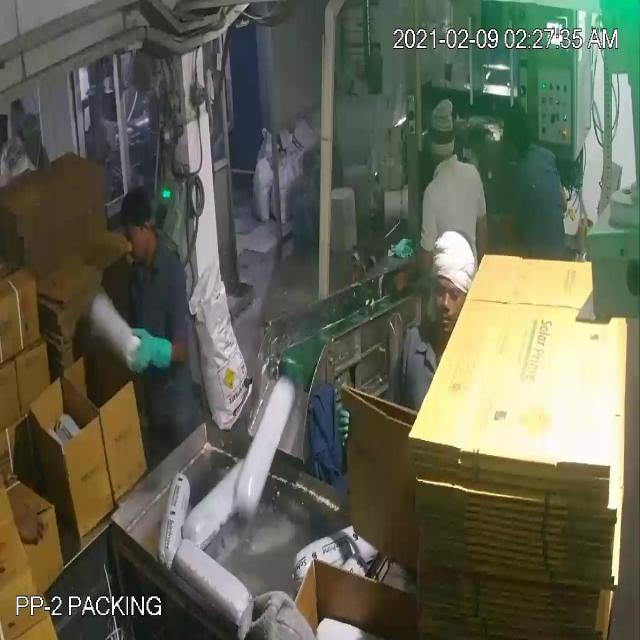Gloves: (38, 56, 413, 350)
